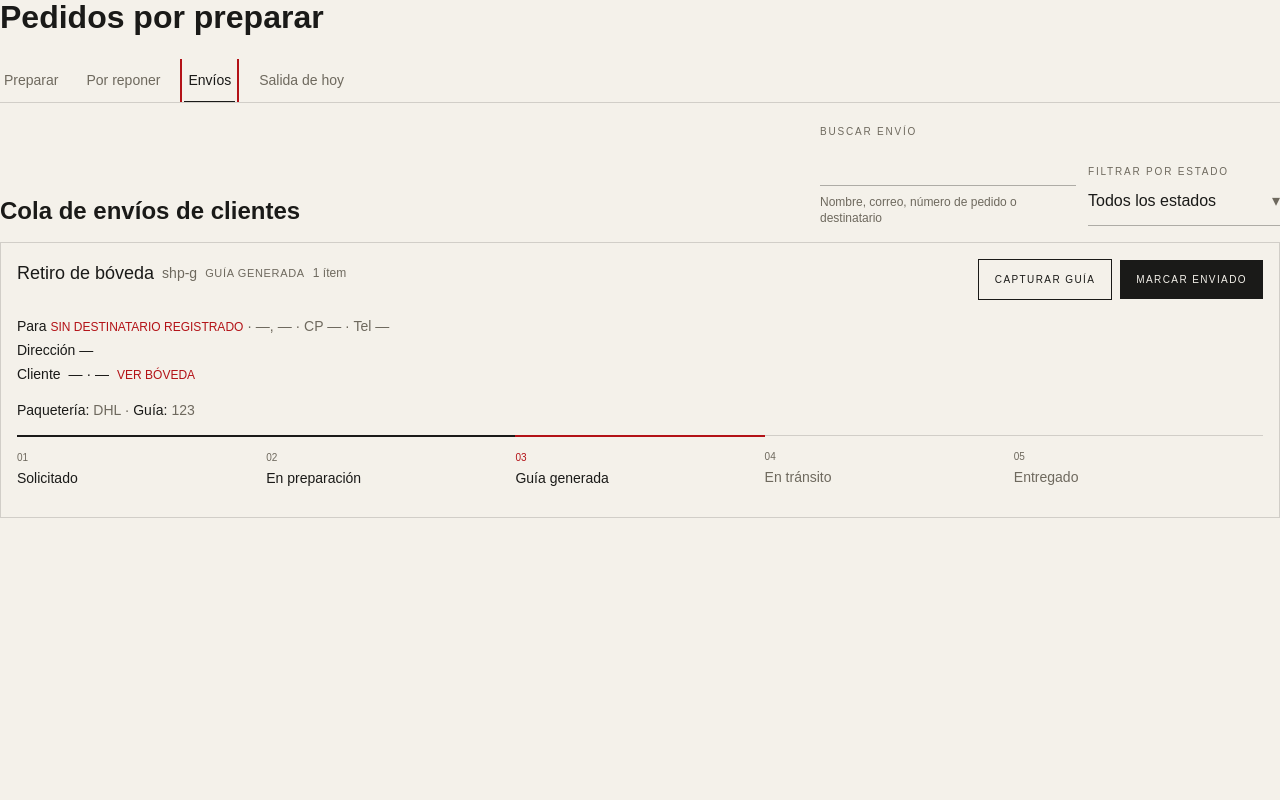
Test: M4View · hueco 15: «Marcar enviado/entregado» confirman › confirmar «Marcar enviado» ⇒ PATCH guia→enviado
The width and height of the screenshot is (1280, 800).
Expected: the element with test id "shipment-parties-shp-g" is shown, x1=17 y1=318 x2=389 y2=382
Click the button "Marcar enviado" at (1192, 280), box x1=1120 y1=260 x2=1263 y2=299
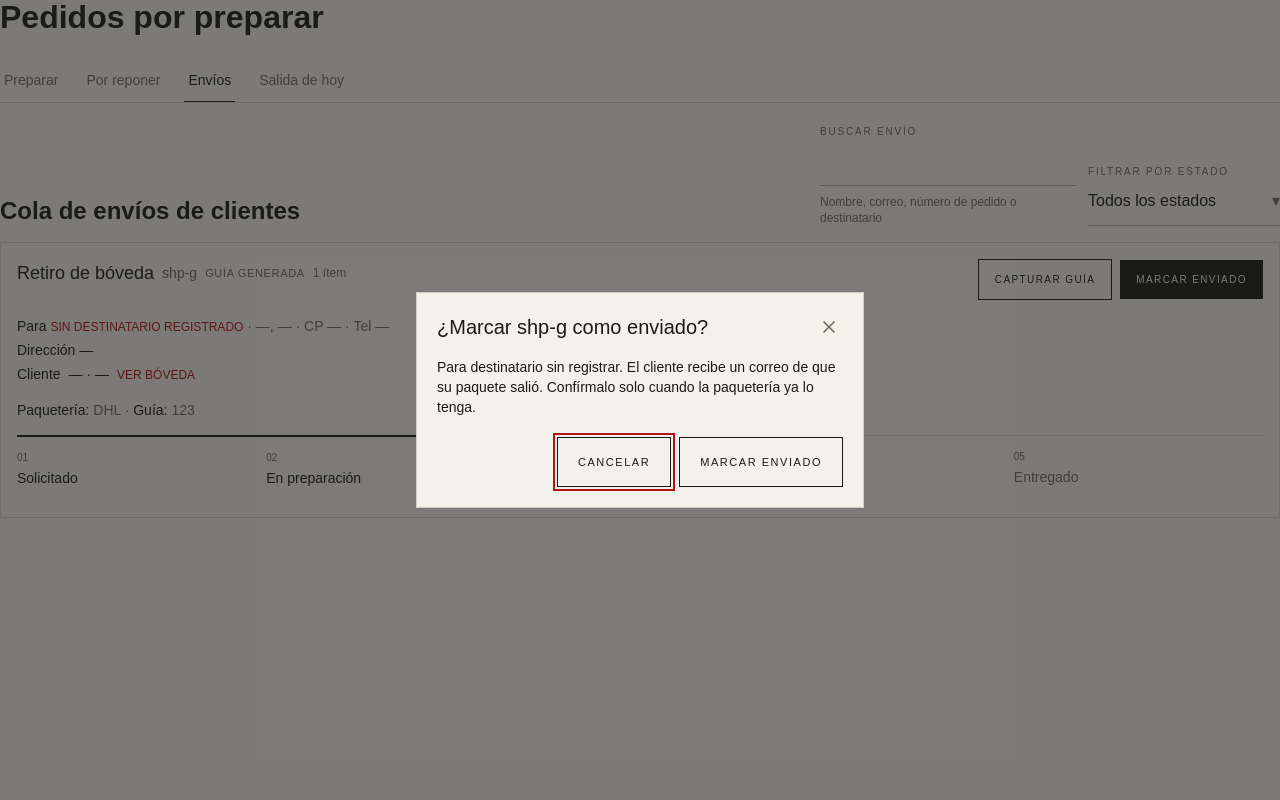
Click the button "Marcar enviado" at (761, 462), box x1=679 y1=437 x2=843 y2=487
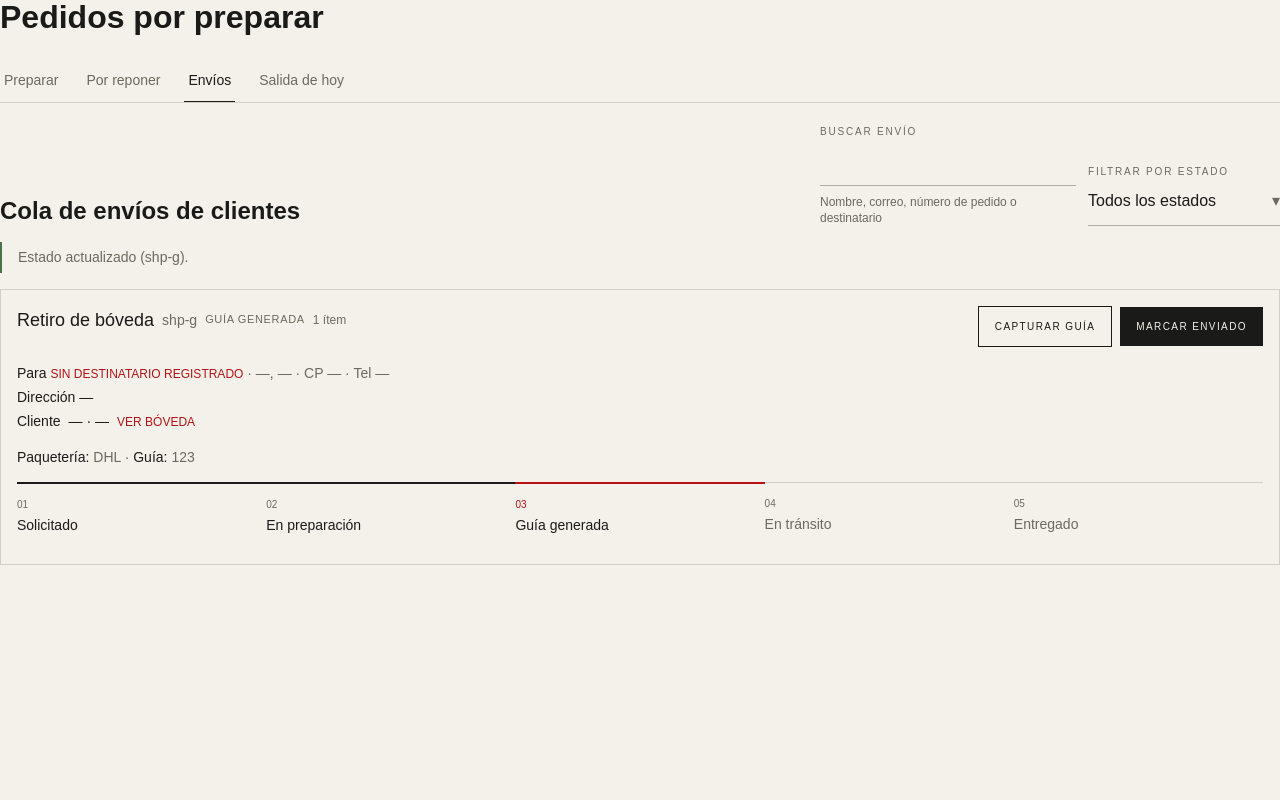
Now the dialog is gone
